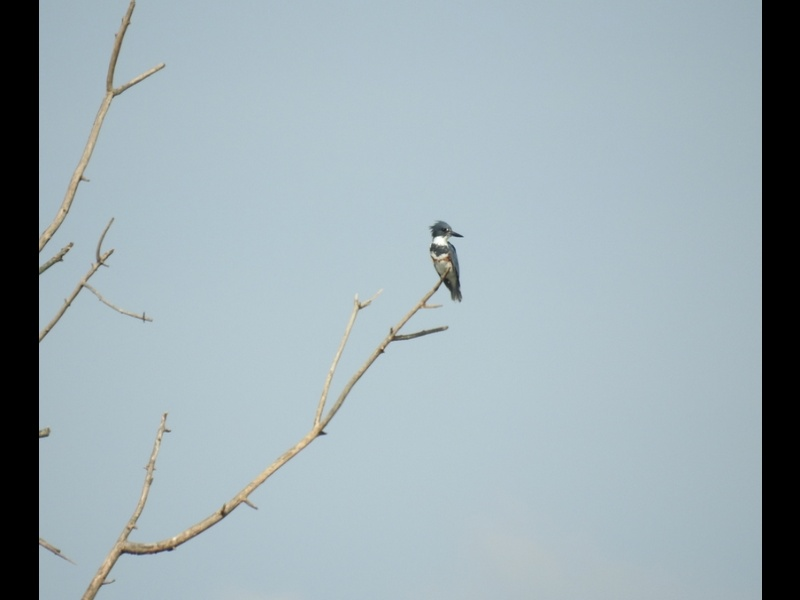kingfisher: (428, 219, 466, 303)
